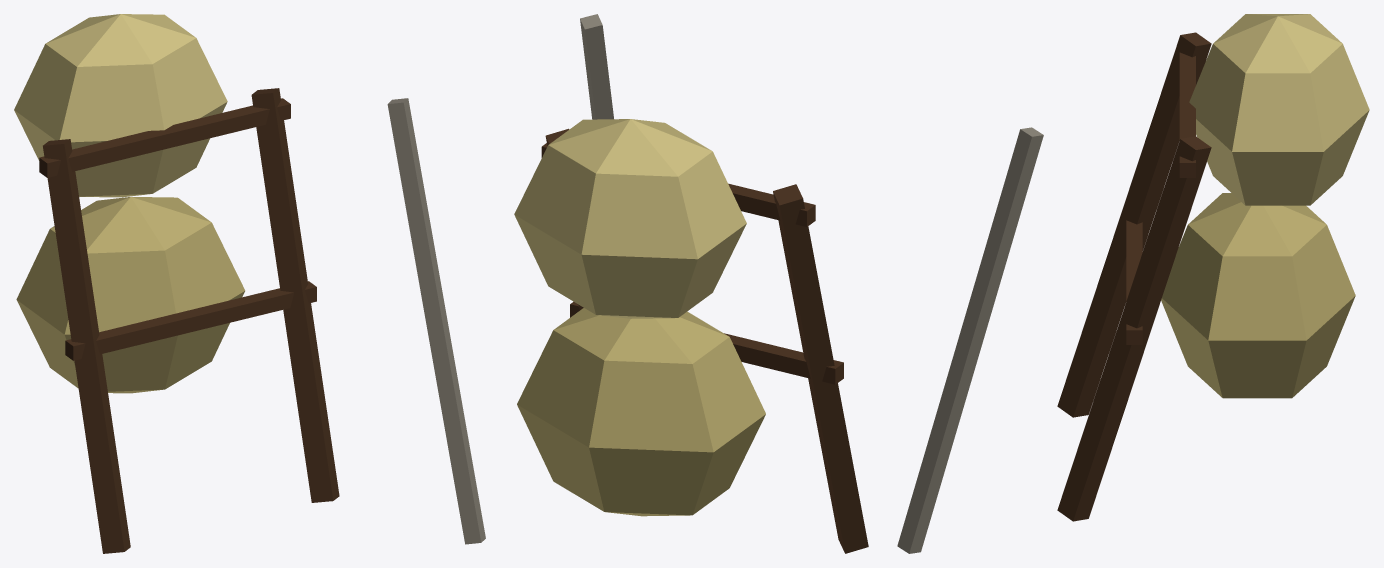
The model's file is a3h_salt_yoke.glb.
3 renders of one model, left to right at view 1: azimuth 30°, elevation 25°; view 2: azimuth 150°, elevation 25°; view 3: azimuth 270°, elevation 25°, orthographic. The views are drawn at different scales.
Parts seen in each view (by area): view 1: a3h_salt_yoke; view 2: a3h_salt_yoke; view 3: a3h_salt_yoke.
Boxes of the visible parts, x1,y1,x2,y2 form: a3h_salt_yoke: (14, 14, 485, 553); a3h_salt_yoke: (514, 14, 868, 553); a3h_salt_yoke: (897, 14, 1369, 553).
Bounding box in the file's own units: 0.88 × 1.21 × 1.15.
